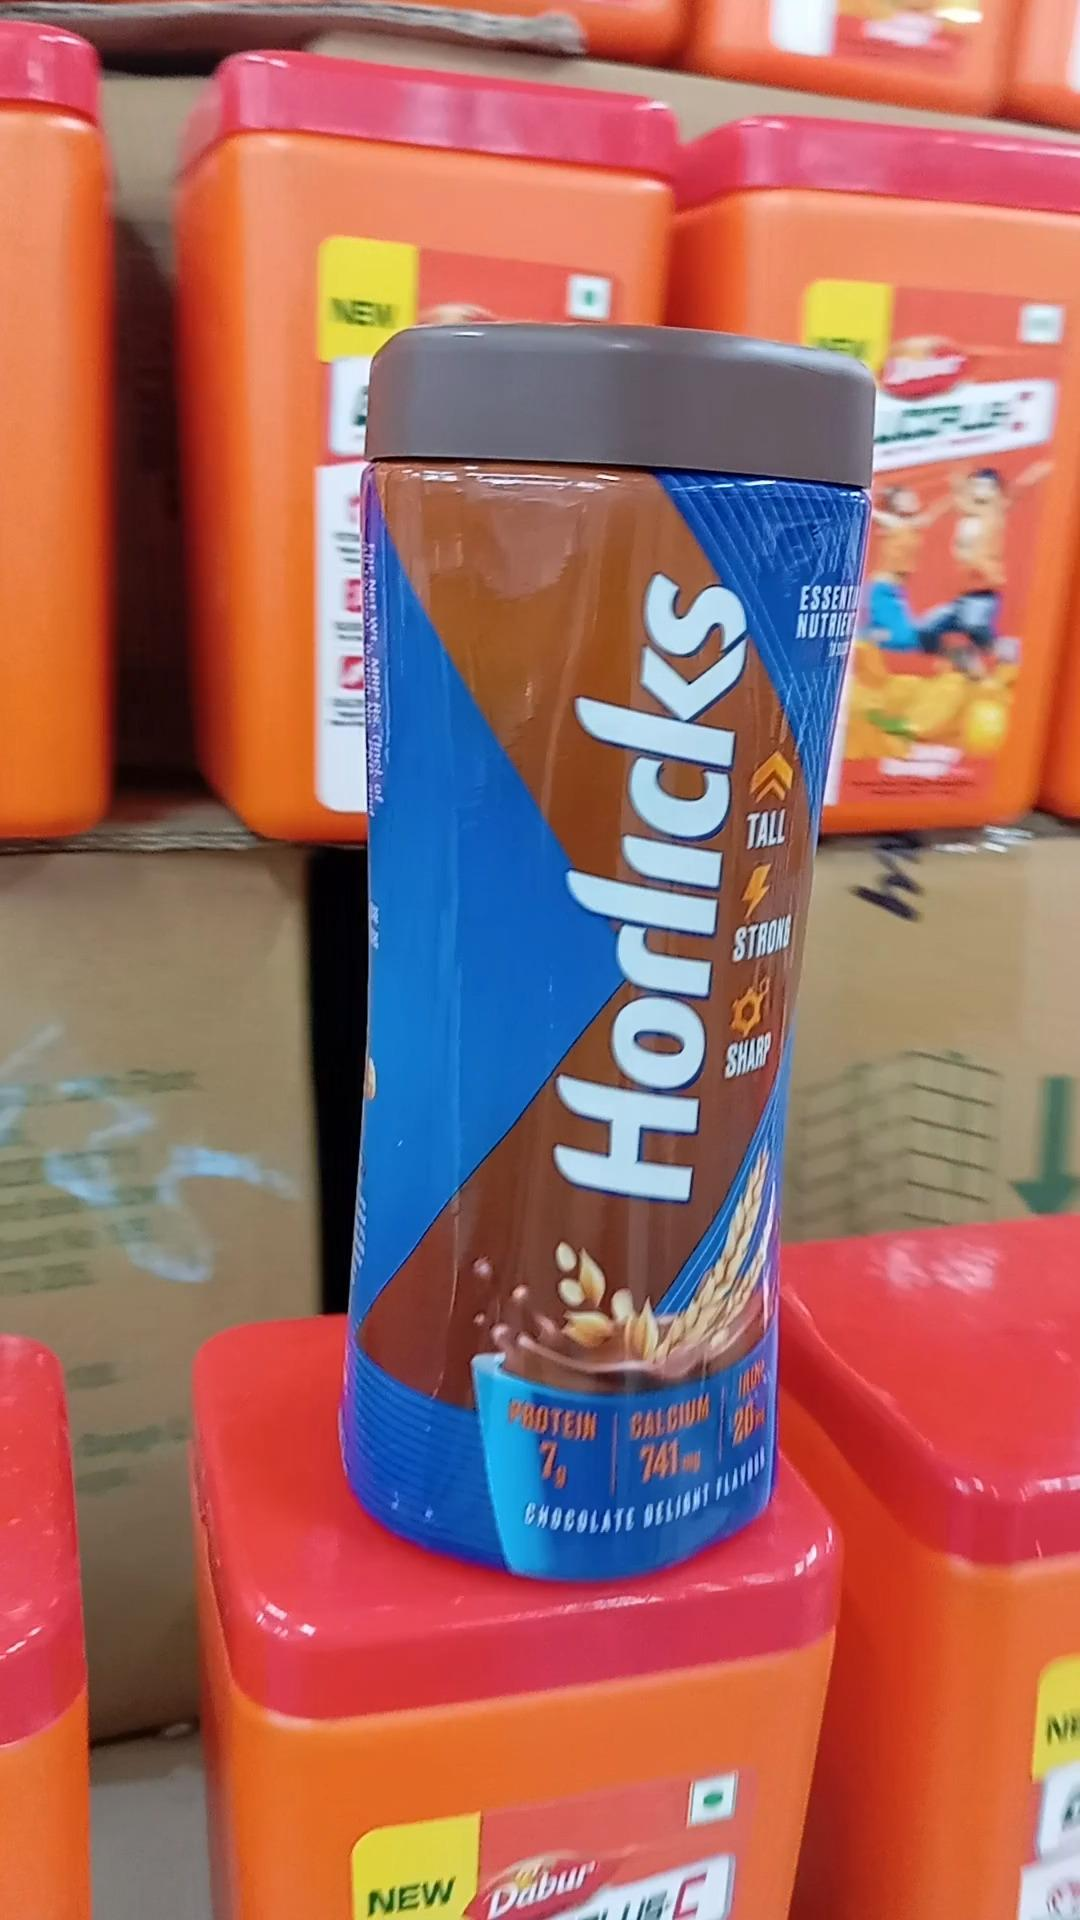HORLICK_CHOCOLATE_500_G_JAR: (360, 320, 820, 1571)
